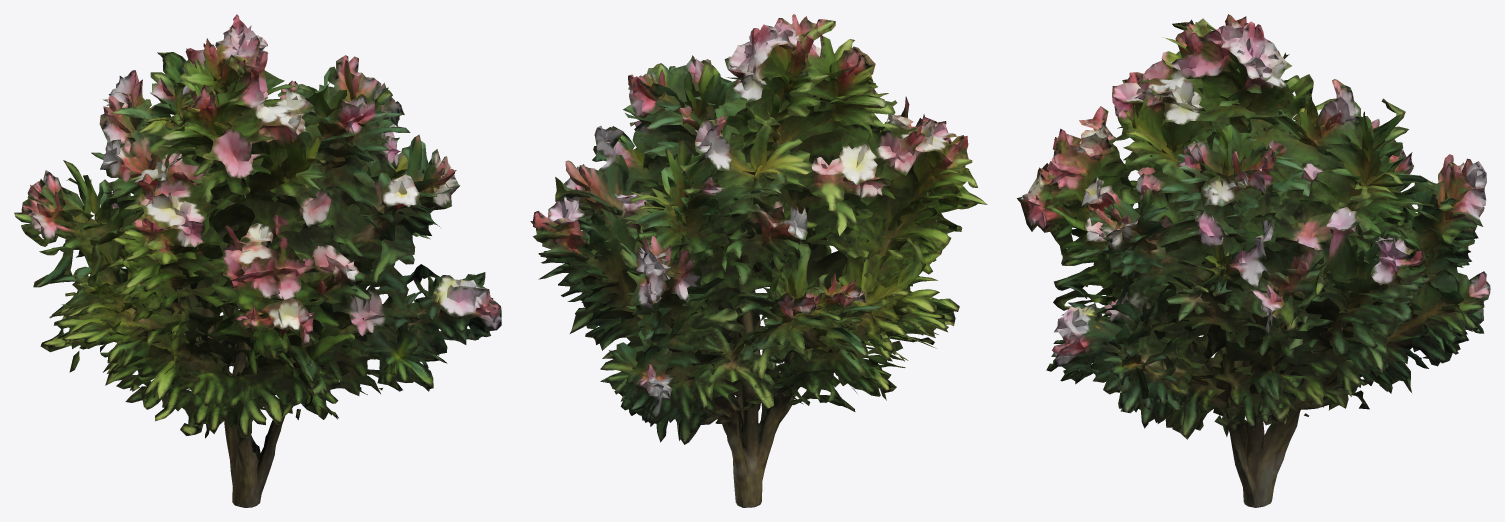
The model's file is veg_oleander.glb.
3 views of the same model, side by side, from view 1: azimuth 30°, elevation 25°; view 2: azimuth 150°, elevation 25°; view 3: azimuth 270°, elevation 25° (orthographic). The views are drawn at different scales.
Visible parts, largest first — view 1: geometry_0; view 2: geometry_0; view 3: geometry_0.
Boxes of the visible parts, x1,y1,x2,y2 form: geometry_0: (14,14,501,507); geometry_0: (530,14,987,507); geometry_0: (1017,14,1490,507).
Size of the model in its own units: 2.01 by 2.5 by 2.27.
1 material, 1 textured.
